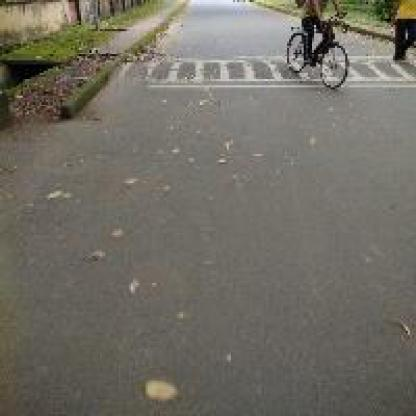Speed Bump: (112, 50, 285, 91)
